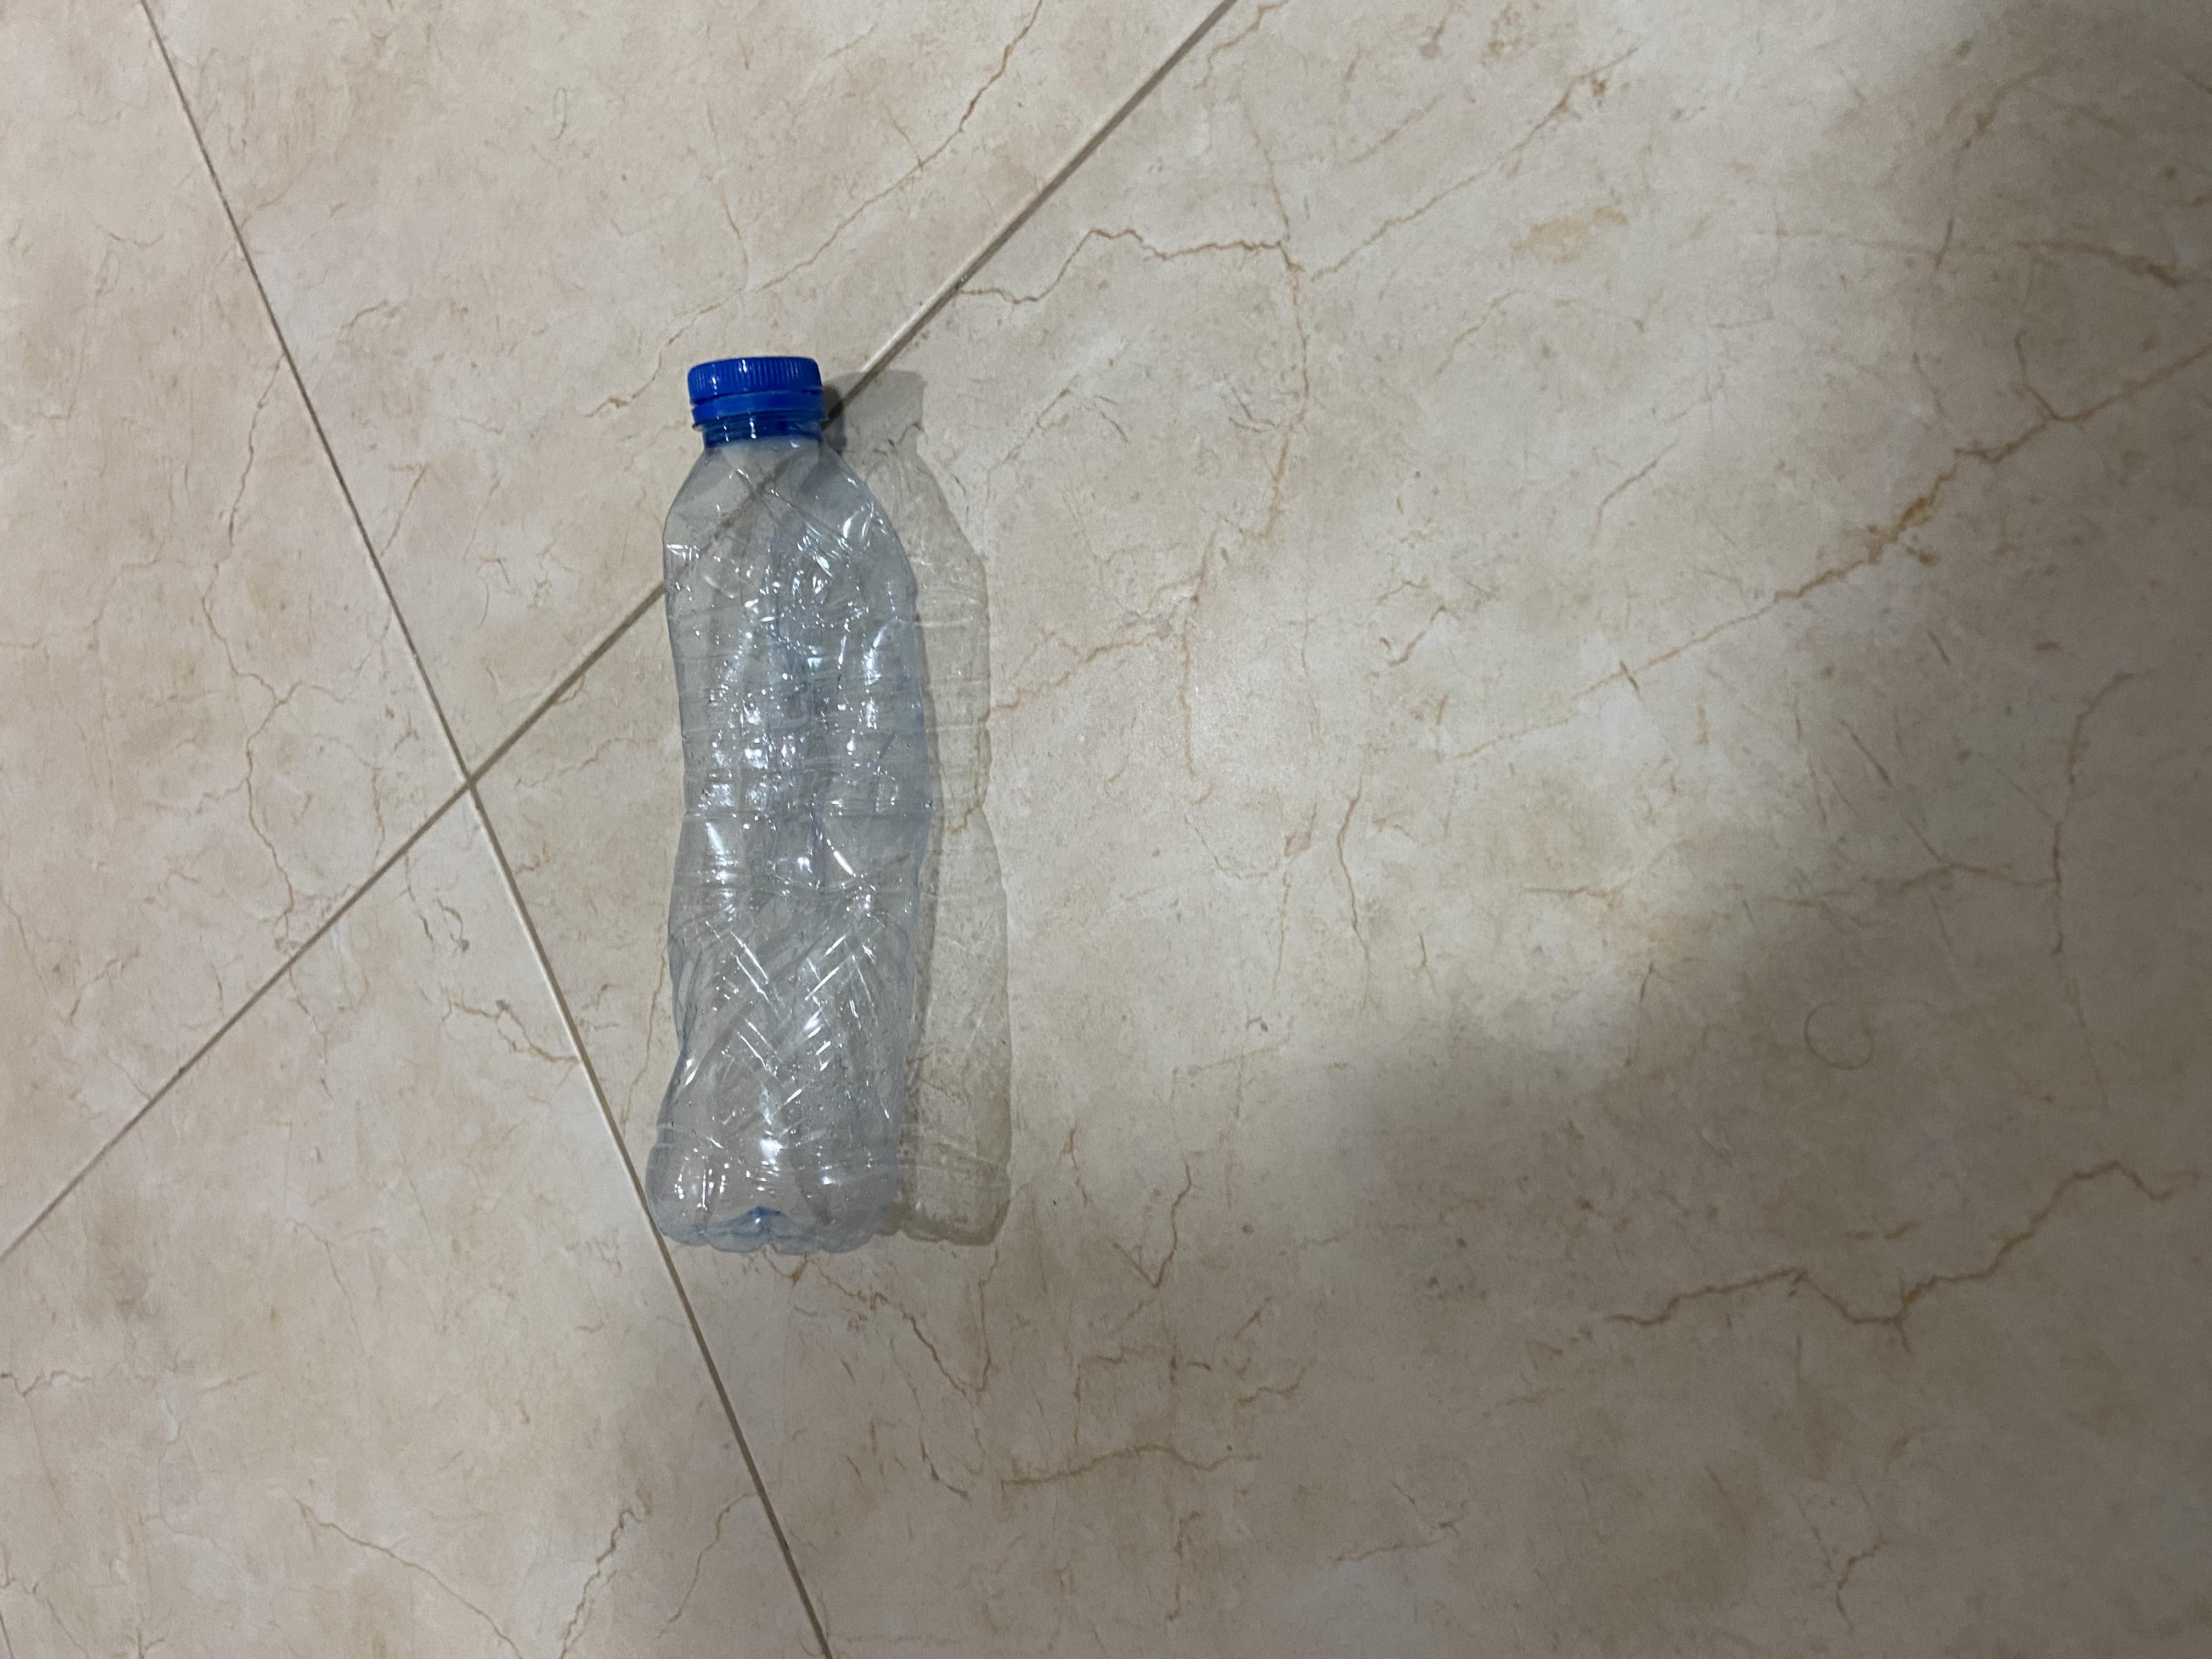bottle: (463, 462, 1770, 709)
